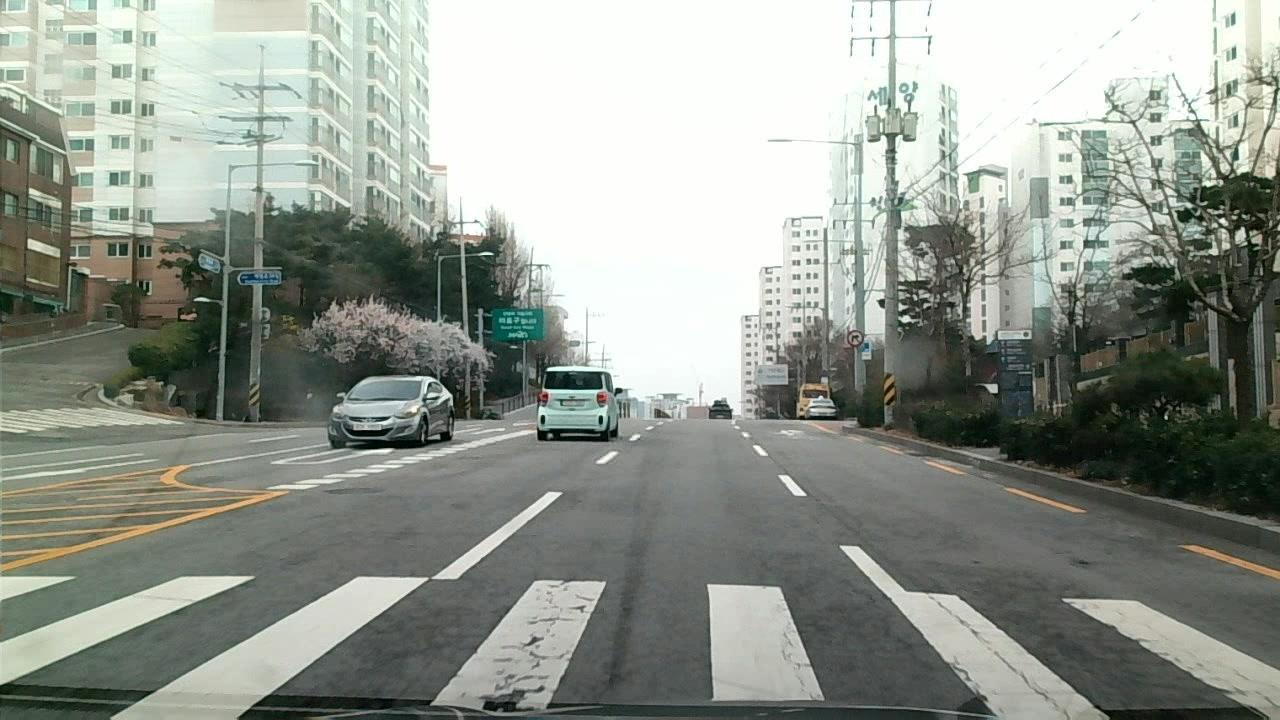erosion: (316, 584, 585, 713)
vcrack: (935, 597, 1067, 713)
